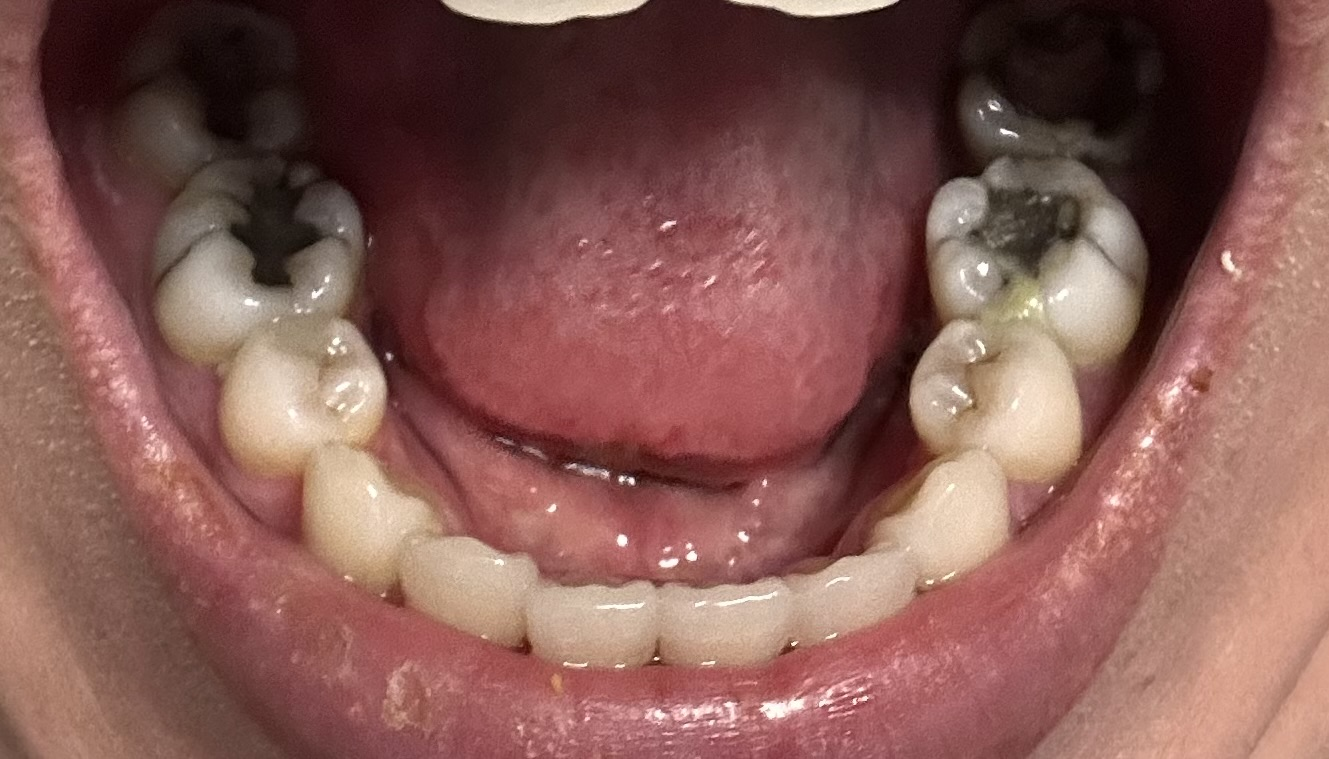teeth: (151, 155, 366, 355), (952, 159, 1149, 341), (97, 6, 308, 166), (962, 8, 1164, 158), (910, 315, 1075, 478), (217, 317, 376, 478), (298, 449, 434, 593), (883, 453, 1011, 581), (404, 531, 532, 650), (788, 549, 916, 639), (663, 577, 781, 662), (529, 581, 655, 655)
